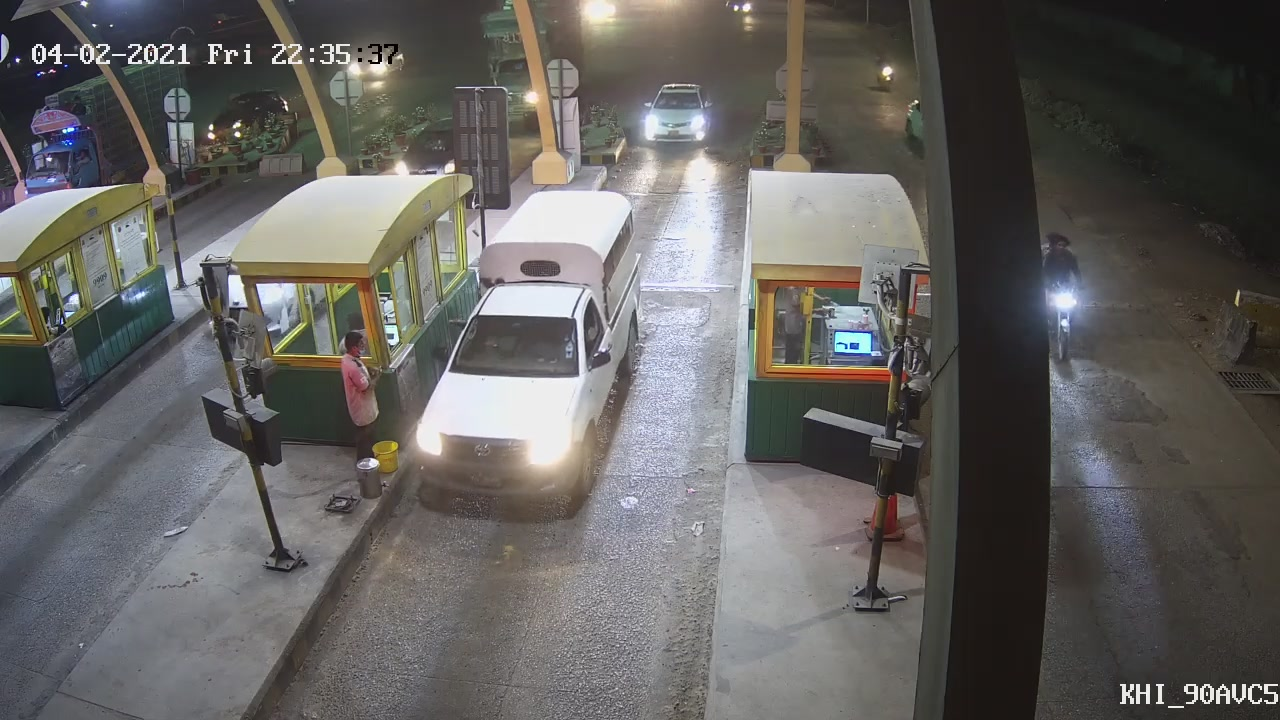F1: (409, 187, 655, 523)
